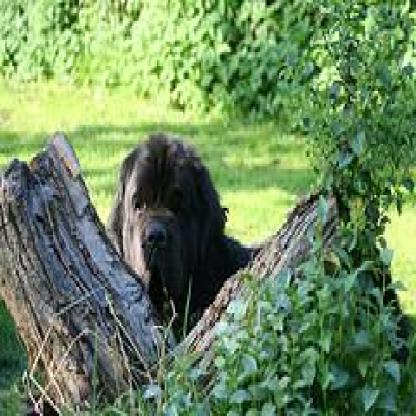Newfoundland: (99, 122, 267, 341)
